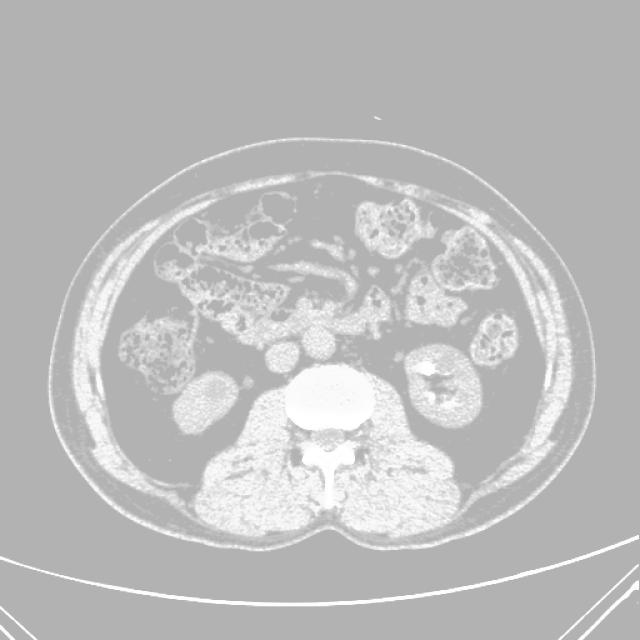STONE: (138, 229, 500, 424)
